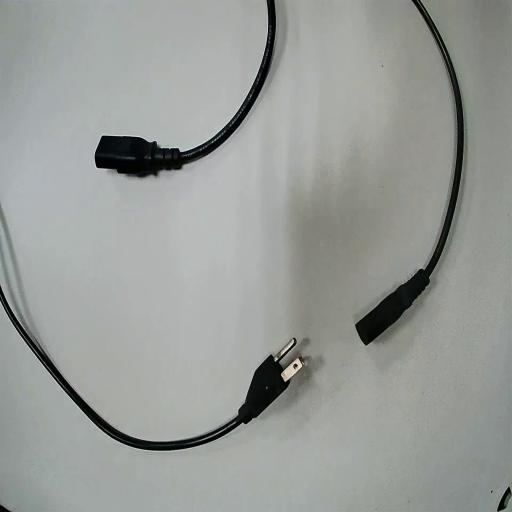wire: (356, 0, 463, 343), (96, 0, 275, 176)
